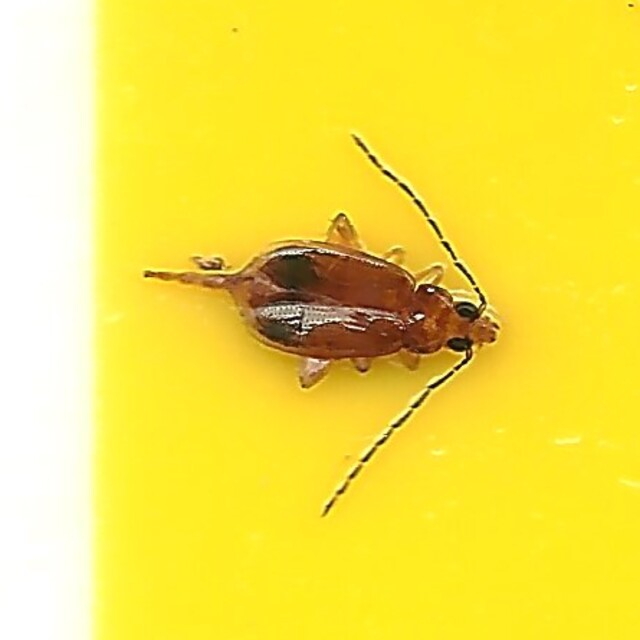Coleoptera: (144, 134, 496, 506)
